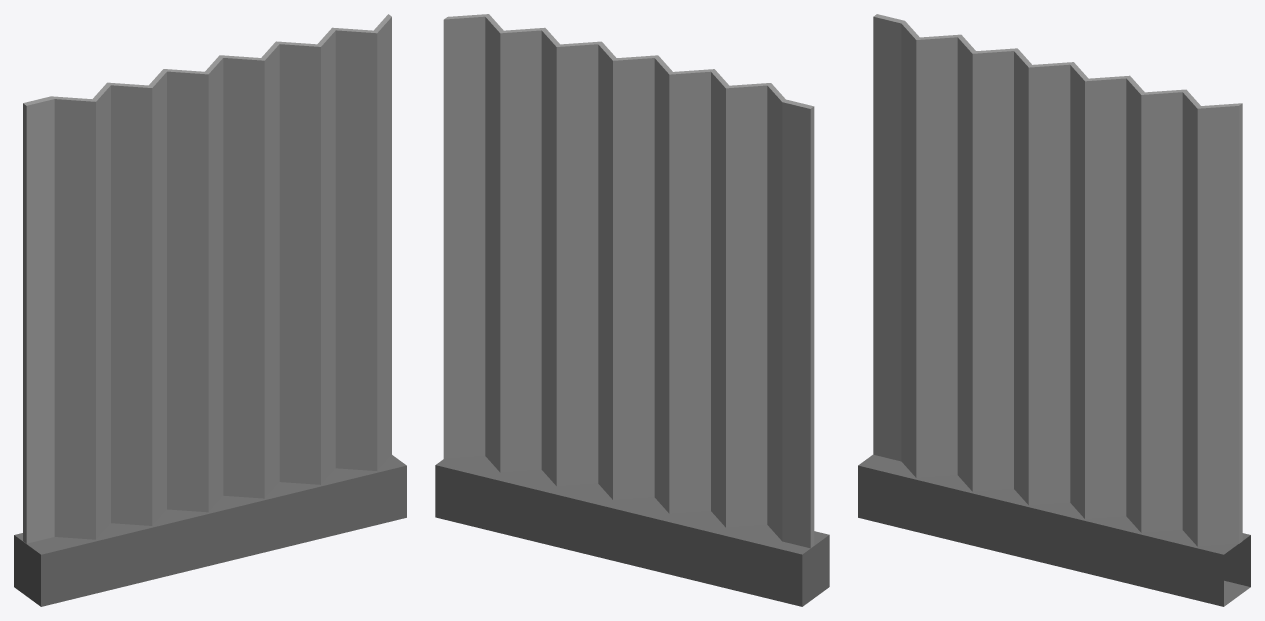
Rendered from Wall.fbx.
3 views of the same model, side by side, from view 1: azimuth 30°, elevation 25°; view 2: azimuth 150°, elevation 25°; view 3: azimuth 330°, elevation 25° (orthographic).
Parts seen in each view (by area): view 1: wall; view 2: wall; view 3: wall.
Boxes of the visible parts, <box> form: wall: <box>14,14,406,606</box>; wall: <box>435,14,829,606</box>; wall: <box>858,14,1250,606</box>.
Size of the model in its own units: 1241 by 1588 by 159.
